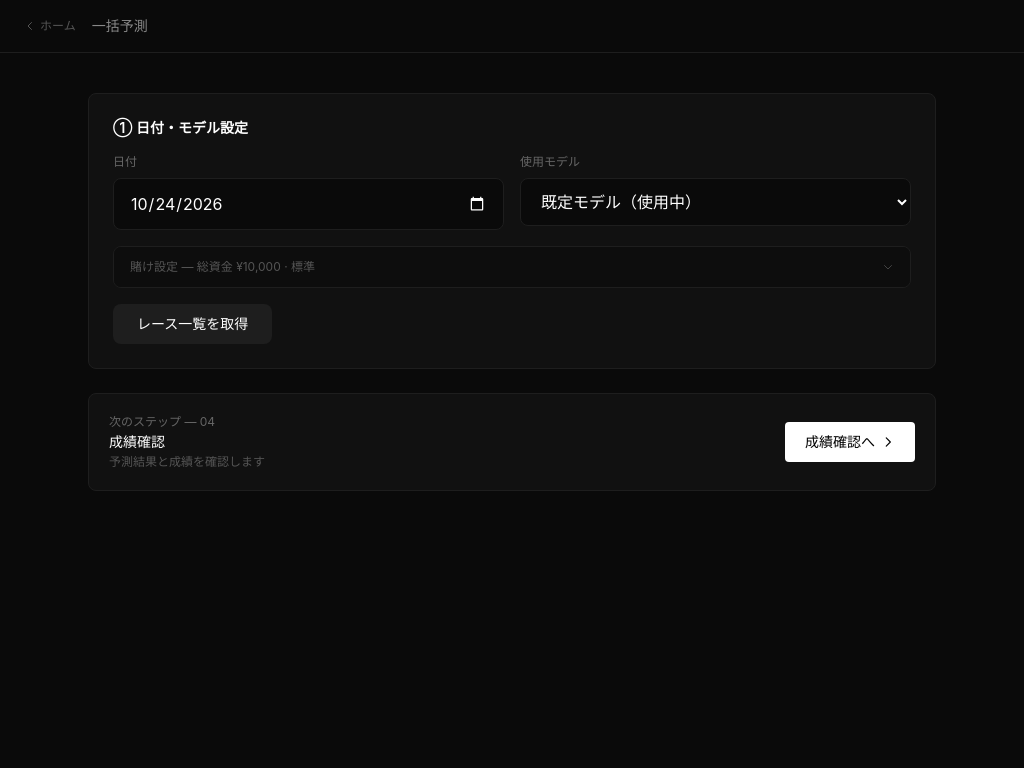
Test: prediction acquisition outcomes › shows confirmed success with the loaded races and retains the job ID
Click the button "レース一覧を取得" at (193, 324), box [113, 304, 272, 344]
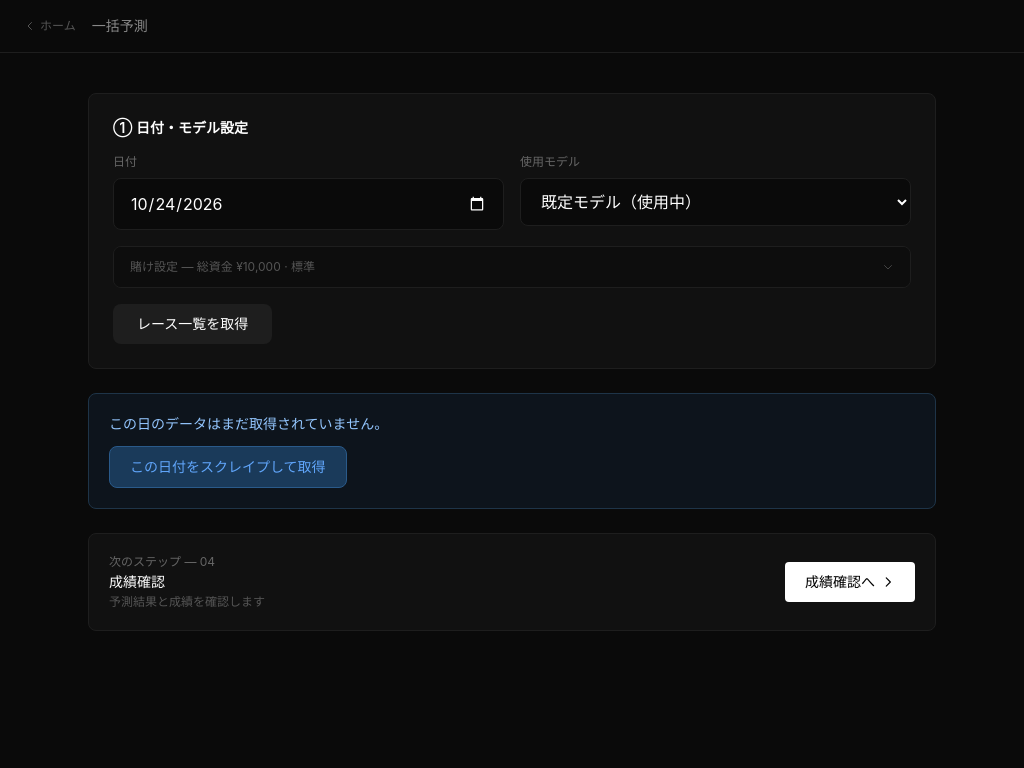
Click the button "この日付をスクレイプして取得" at (228, 467), box [109, 446, 347, 488]
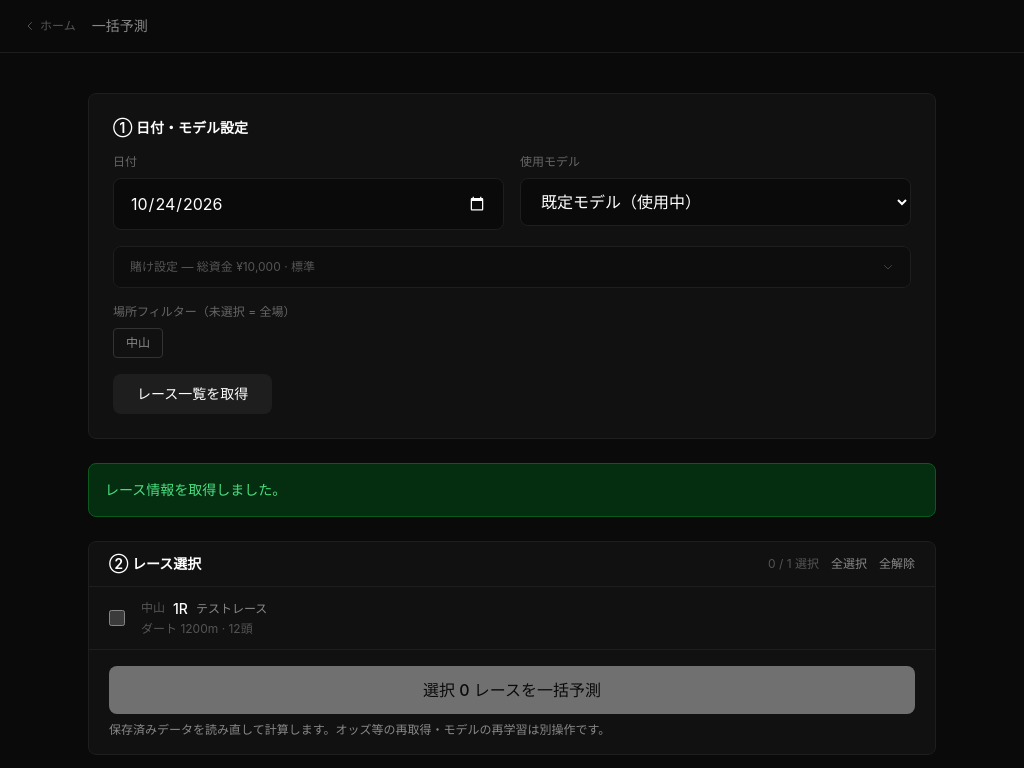
Now the message with test id "scrape-completion-outcome" reads "レース情報を取得しました。", box [105, 481, 286, 498]
Now the text "テストレース" is shown, box [196, 601, 267, 617]
